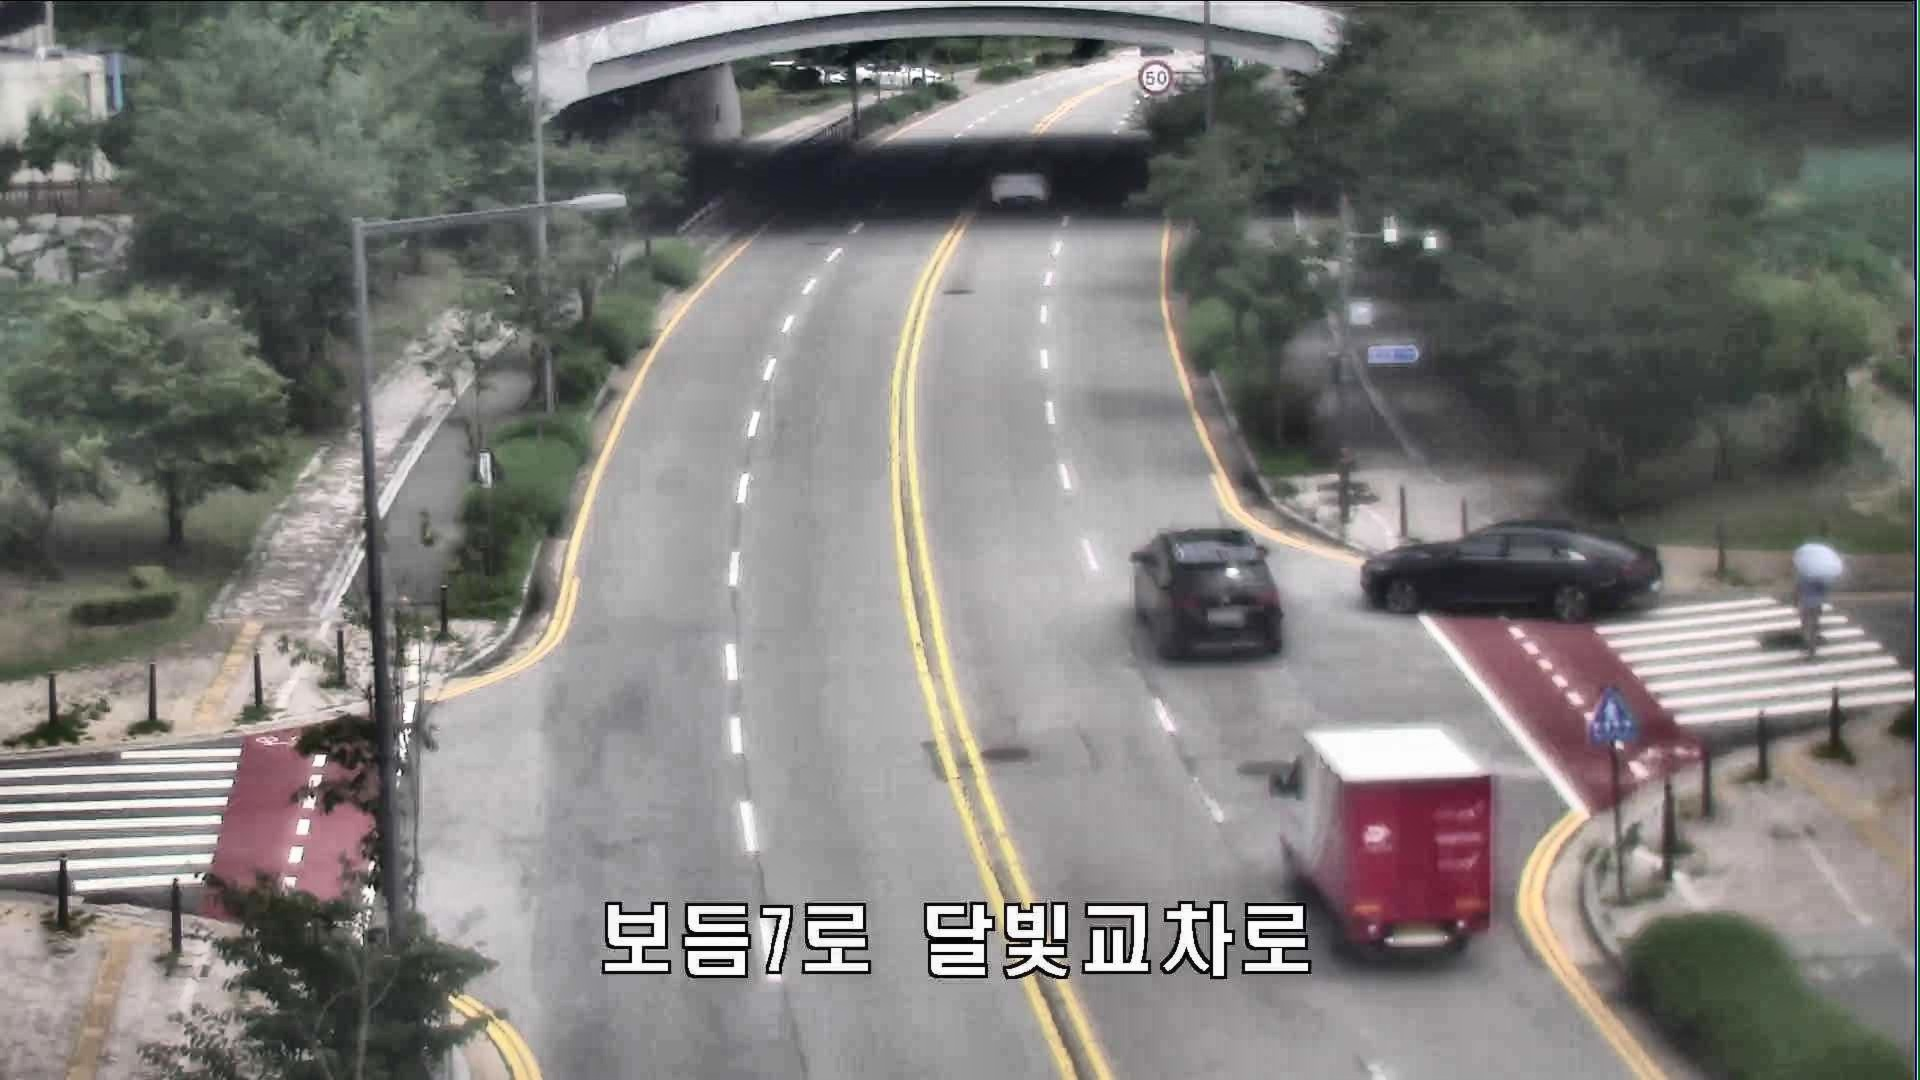um_crosswalk: (1788, 541, 1844, 657)
